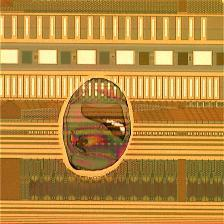PARTICLE: (58, 72, 137, 180)
